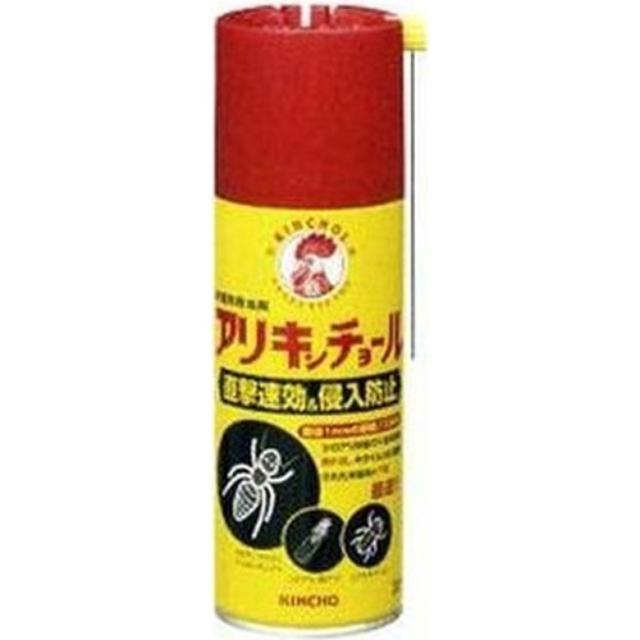chemical_spray_can: (192, 2, 438, 640)
